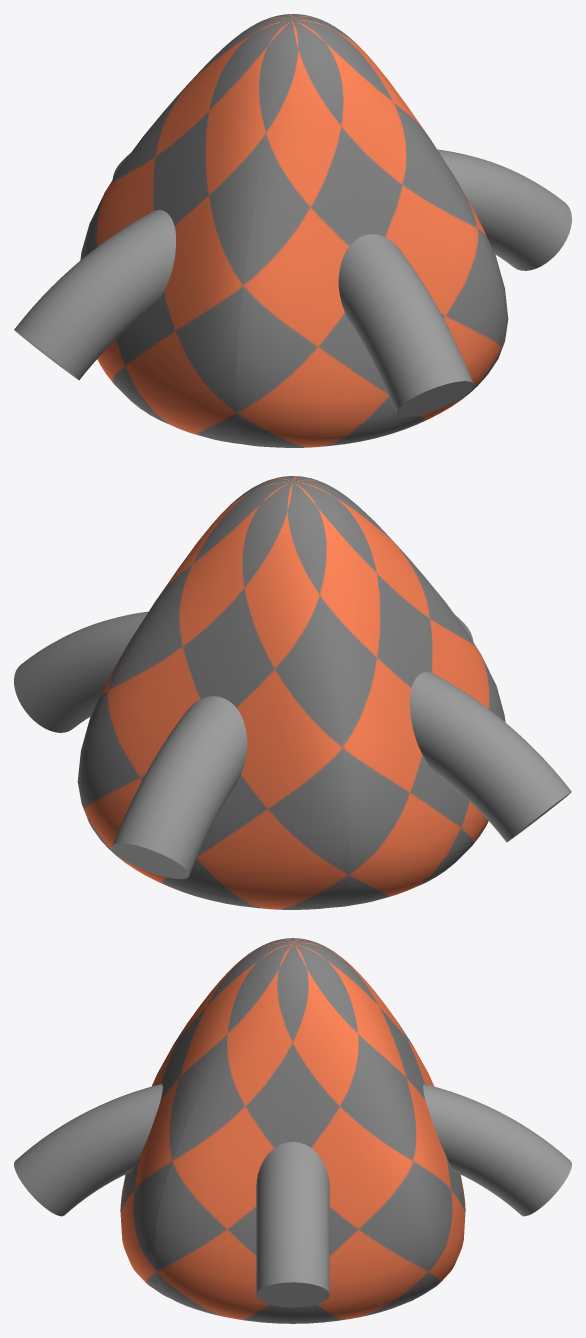
Rendered from Body(Pyramidal)+Colour(More_Orange)+Pattern(Diamond)+Arm_Angle(Bent_Down).fbx.
3 renders of one model, top to bottom at view 1: azimuth 30°, elevation 25°; view 2: azimuth 150°, elevation 25°; view 3: azimuth 270°, elevation 25°, orthographic. The views are drawn at different scales.
Parts seen in each view (by area): view 1: Body(Pyramidal)+Colour(More_Orange)+Pattern(Diamond)+Arm_Ang (×4); view 2: Body(Pyramidal)+Colour(More_Orange)+Pattern(Diamond)+Arm_Ang (×4); view 3: Body(Pyramidal)+Colour(More_Orange)+Pattern(Diamond)+Arm_Ang (×4).
Part boxes in pixels (box(x1,y1,x2,y2)): Body(Pyramidal)+Colour(More_Orange)+Pattern(Diamond)+Arm_Ang (×4): box(14, 14, 571, 447); Body(Pyramidal)+Colour(More_Orange)+Pattern(Diamond)+Arm_Ang (×4): box(14, 476, 571, 909); Body(Pyramidal)+Colour(More_Orange)+Pattern(Diamond)+Arm_Ang (×4): box(14, 938, 571, 1323).
Bounding box in the file's own units: 60.67 × 40 × 60.67.
2 materials, 1 textured.
